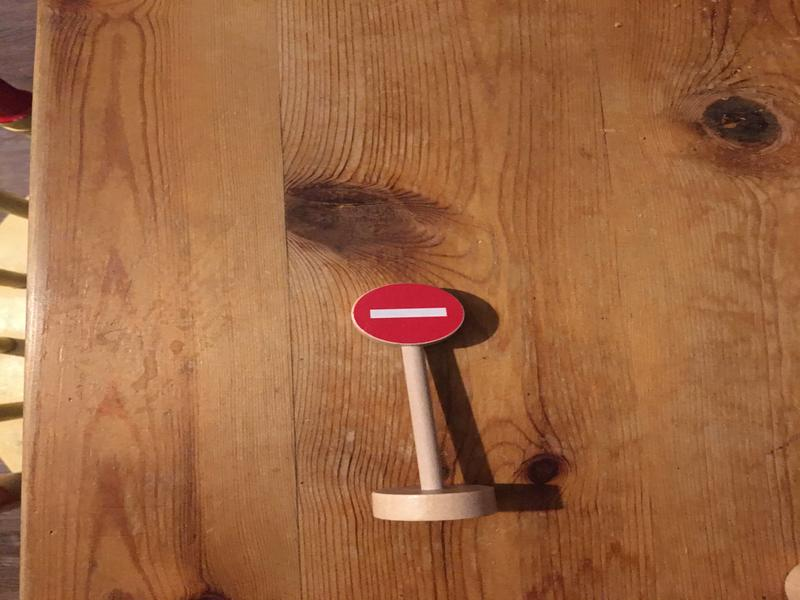Traffic_Sign_No_Entry: (353, 285, 465, 345)
